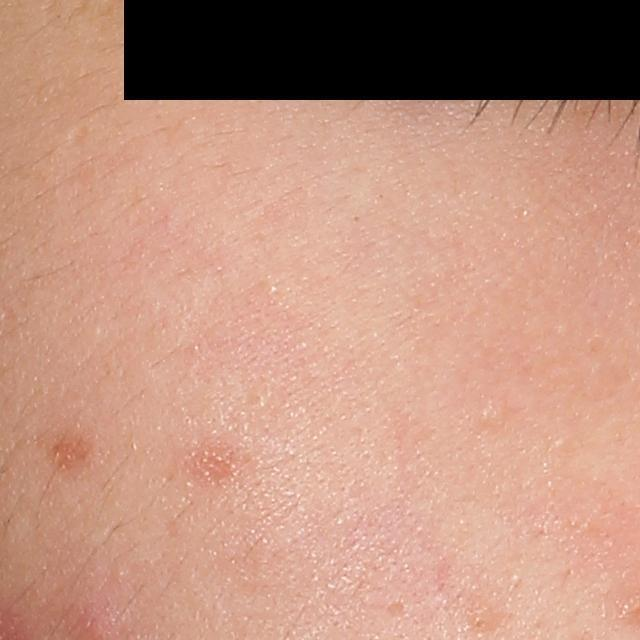atrophic_scar: (381, 600, 409, 618)
comedo: (466, 603, 497, 635)
